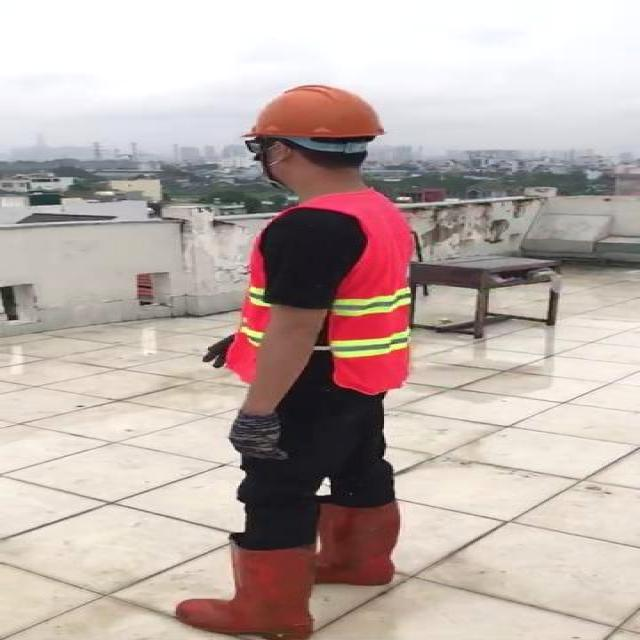boots: (170, 545, 316, 640), (311, 497, 402, 586)
hand_glove: (230, 412, 284, 459), (203, 323, 238, 368)
head_helmet: (235, 79, 389, 142)
person: (147, 74, 426, 640)
vest: (311, 188, 416, 393), (229, 211, 272, 384)
